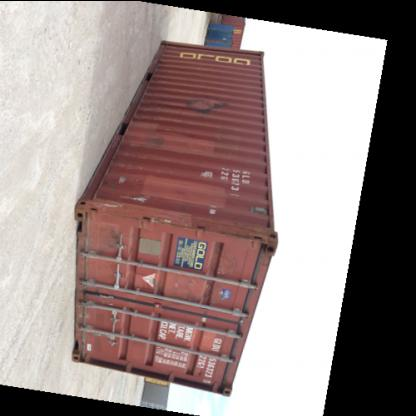Damage: (84, 168, 158, 212), (158, 211, 266, 239), (135, 54, 173, 124), (187, 91, 233, 117), (135, 127, 171, 160), (104, 222, 130, 248), (218, 140, 240, 158), (201, 164, 217, 178)
